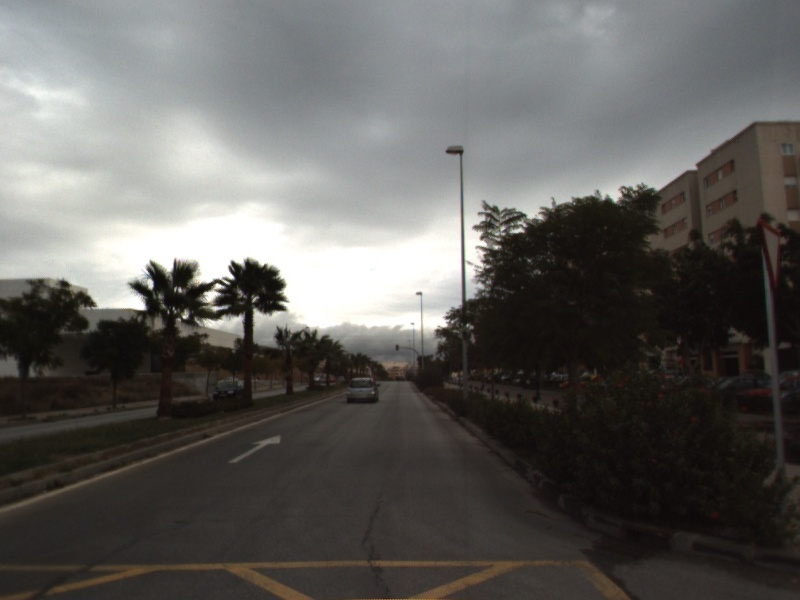STRAIGHT: (226, 433, 282, 465)
